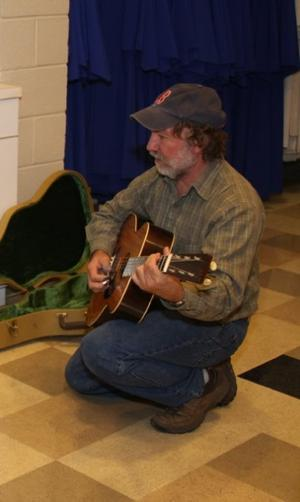person: (65, 81, 266, 434)
